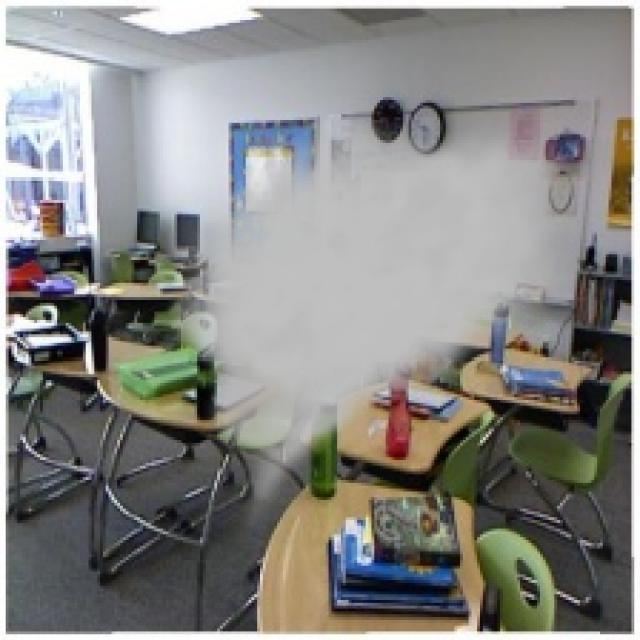Smoke: (157, 111, 583, 534)
